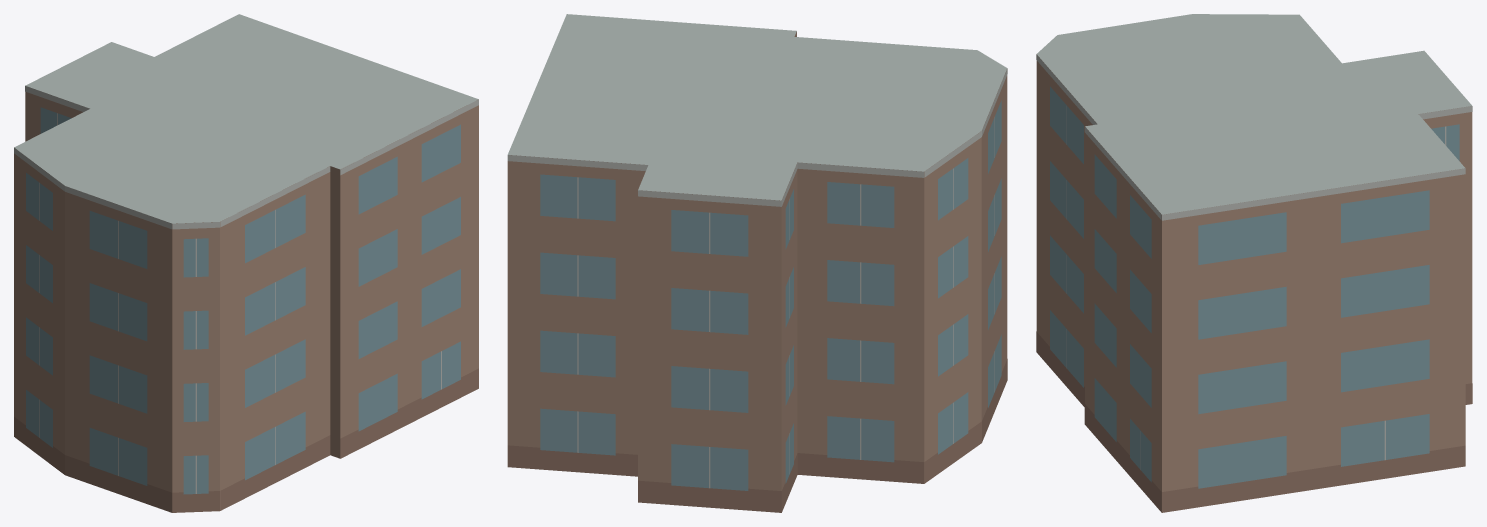
The model's file is survey-upis-32619383.glb.
3 renders of one model, left to right at view 1: azimuth 30°, elevation 25°; view 2: azimuth 150°, elevation 25°; view 3: azimuth 270°, elevation 25°, orthographic. The views are drawn at different scales.
Visible parts, largest first — view 1: survey-upis-32619383.tmp; view 2: survey-upis-32619383.tmp; view 3: survey-upis-32619383.tmp.
Part boxes in pixels (x1,y1,x2,y2): survey-upis-32619383.tmp: (14, 14, 478, 512); survey-upis-32619383.tmp: (507, 14, 1007, 512); survey-upis-32619383.tmp: (1036, 14, 1472, 512).
Size of the model in its own units: 17.41 by 12.05 by 15.98.
